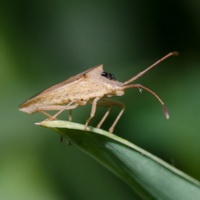insect: (19, 52, 178, 129)
